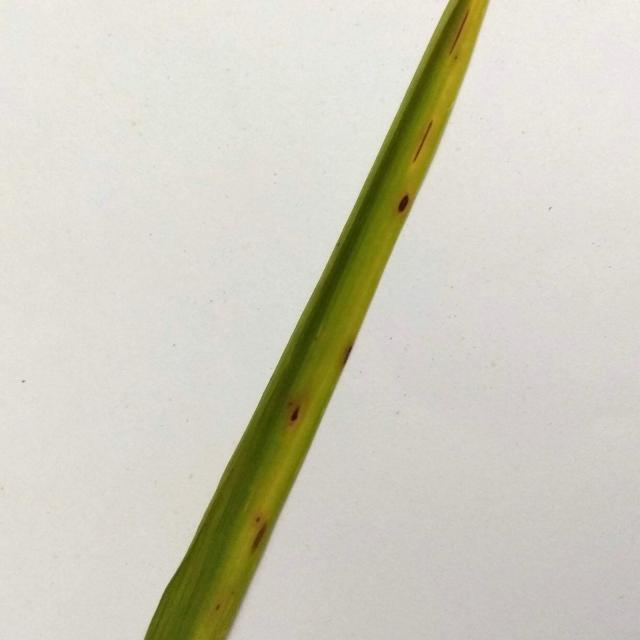Brown spot: (436, 8, 480, 60), (410, 107, 440, 157), (389, 181, 418, 219), (247, 507, 265, 552), (334, 334, 353, 366), (290, 400, 301, 425)
